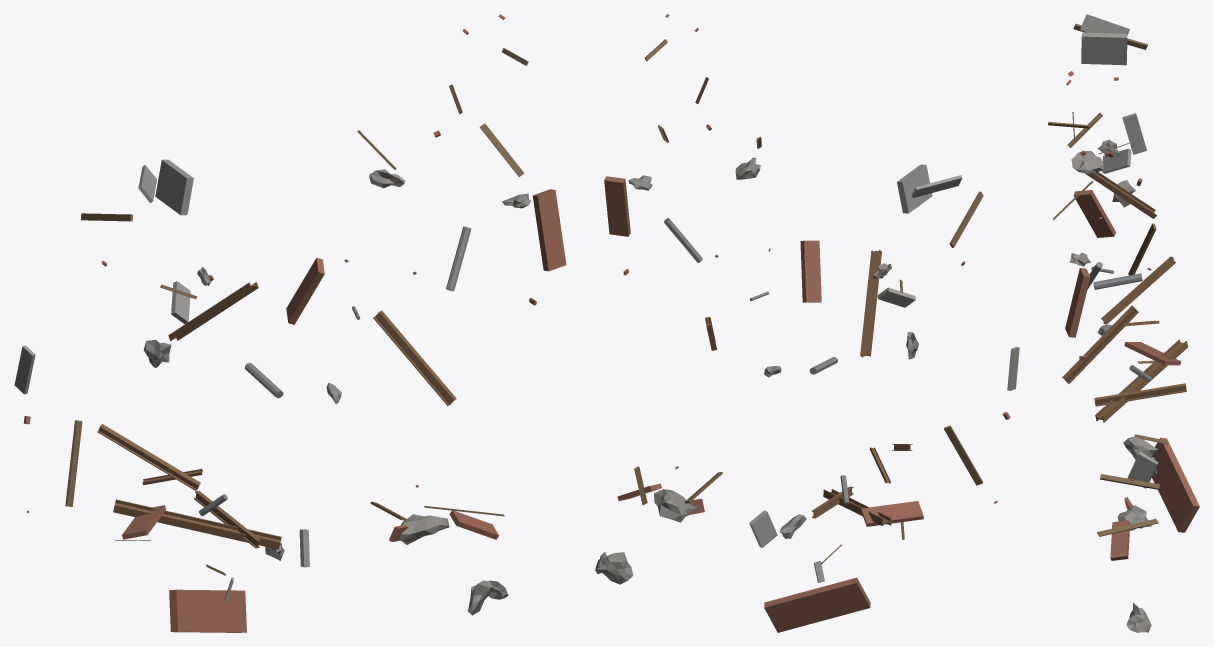
File: batch_RUBBLE_n002_p004.glb
3 renders of one model, left to right at view 1: azimuth 30°, elevation 25°; view 2: azimuth 150°, elevation 25°; view 3: azimuth 270°, elevation 25°, orthographic. The views are drawn at different scales.
Parts seen in each view (by area): view 1: SAR_Rubble_004_Piece_0002.001; view 2: SAR_Rubble_004_Piece_0002.001; view 3: SAR_Rubble_004_Piece_0002.001.
Boxes of the visible parts, <box> form: SAR_Rubble_004_Piece_0002.001: <box>14,14,566,632</box>; SAR_Rubble_004_Piece_0002.001: <box>595,14,1019,632</box>; SAR_Rubble_004_Piece_0002.001: <box>1048,14,1199,632</box>.
Bounding box in the file's own units: 23.78 × 28.43 × 7.16.
